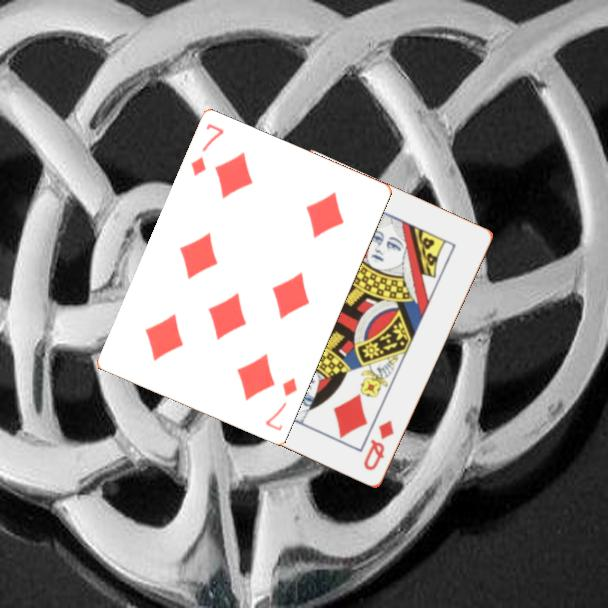d07: (187, 120, 227, 179), (262, 374, 300, 434)
d12: (360, 417, 397, 474)
